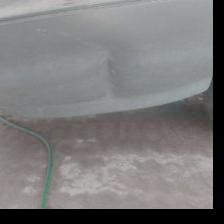bumper_dent: (36, 22, 144, 127)
